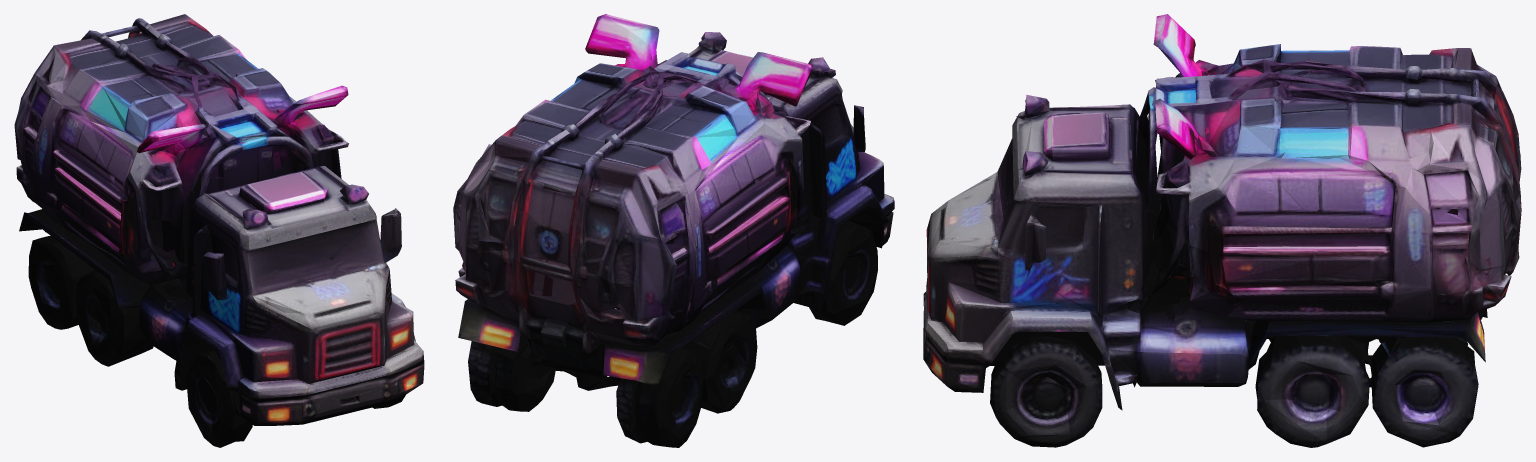
File: prodfive-hi.glb
3 renders of one model, left to right at view 1: azimuth 30°, elevation 25°; view 2: azimuth 150°, elevation 25°; view 3: azimuth 270°, elevation 25°, orthographic. The views are drawn at different scales.
Visible parts, largest first — view 1: world; view 2: world; view 3: world.
Part boxes in pixels (left/top/right/bottom): world: left=14, top=14, right=424, bottom=447; world: left=453, top=14, right=894, bottom=447; world: left=923, top=14, right=1521, bottom=447.
Size of the model in its own units: 0.4806 by 0.6145 by 0.9999.
Materials: 1 (1 with a texture image).
